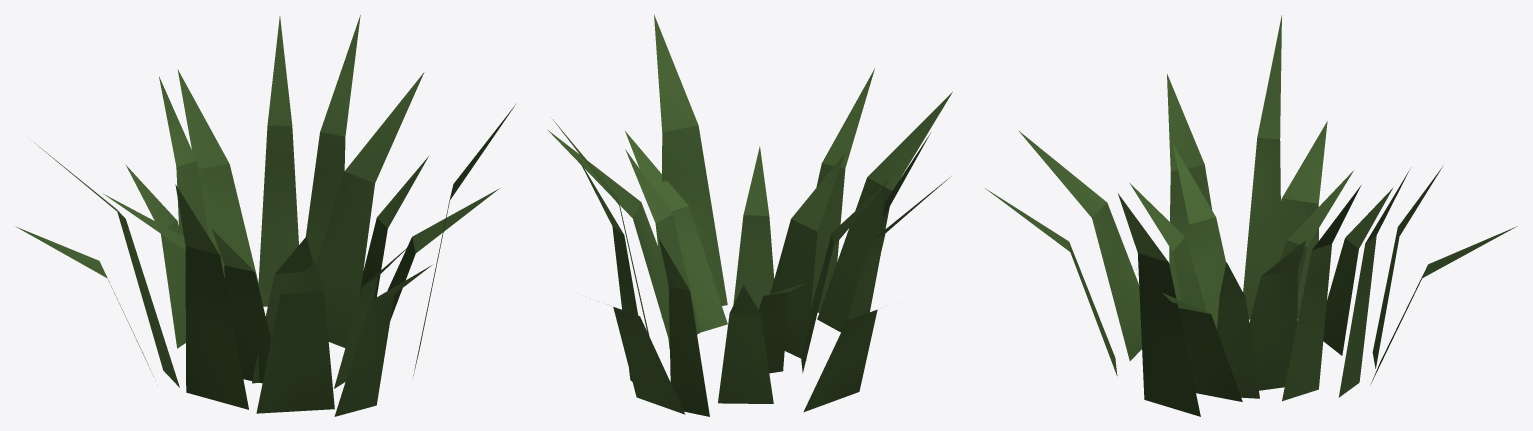
The picture shows the model from 3 angles, left to right: view 1: azimuth 30°, elevation 25°; view 2: azimuth 150°, elevation 25°; view 3: azimuth 270°, elevation 25°; orthographic projection. The views are drawn at different scales.
Parts seen in each view (by area): view 1: Grass_4; view 2: Grass_4; view 3: Grass_4.
Boxes of the visible parts, x1,y1,x2,y2 form: Grass_4: (15,15,516,416); Grass_4: (547,14,952,416); Grass_4: (985,15,1517,416).
Bounding box in the file's own units: 0.753 × 0.4717 × 0.9223.
